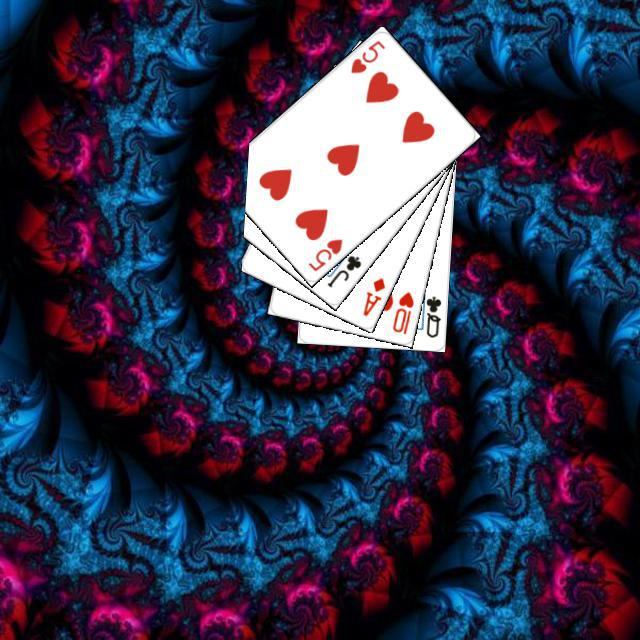10h: (387, 286, 415, 336)
5h: (346, 35, 387, 75), (303, 234, 344, 273)
Ad: (358, 273, 387, 318)
Jc: (322, 250, 363, 289)
Qc: (414, 286, 442, 339)
